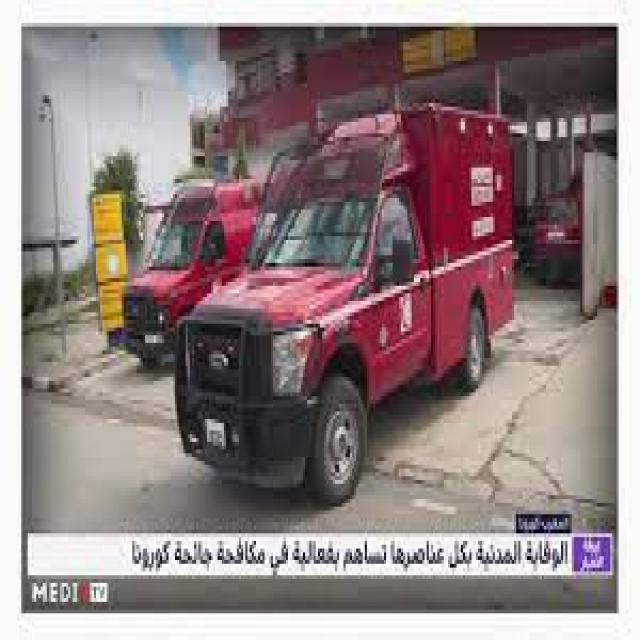ambulance: (177, 107, 511, 496)
